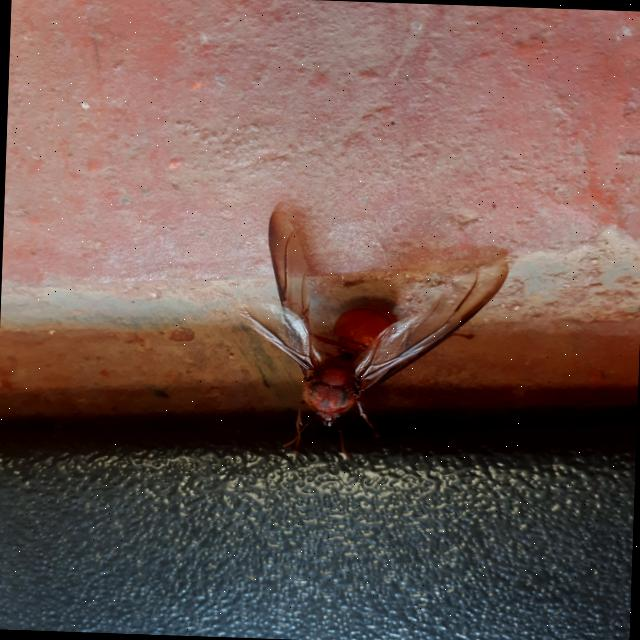Alive-Female-Alate: (229, 200, 512, 470)
